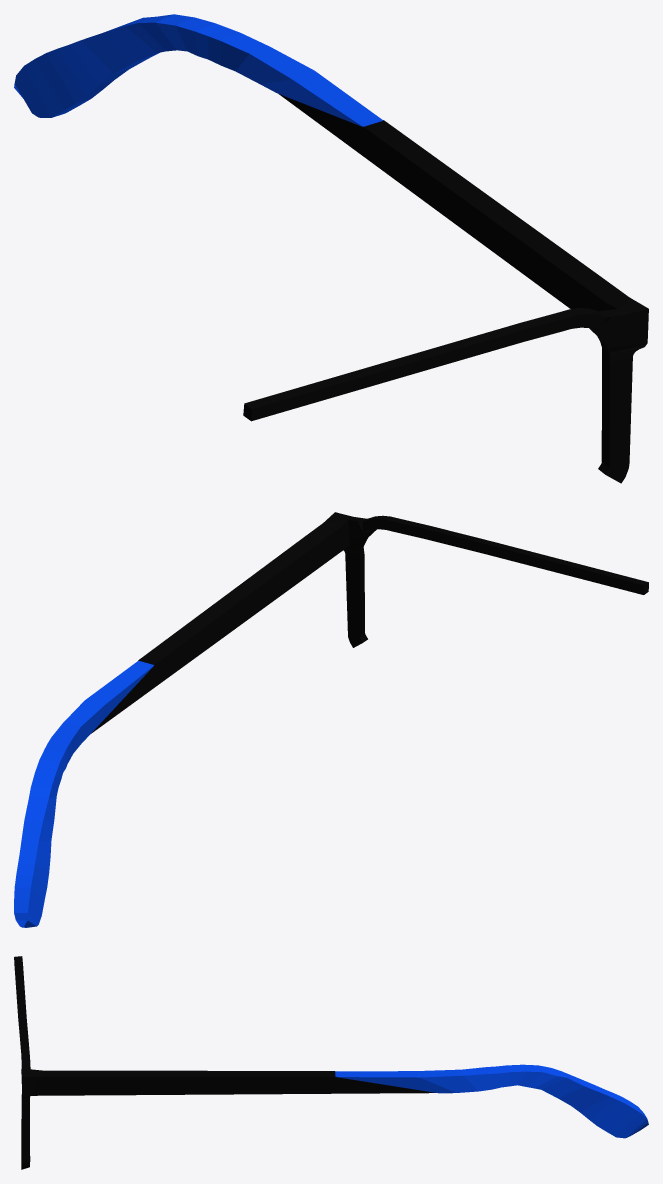
The model's file is glasses4.glb.
3 views of the same model, one above another, from view 1: azimuth 30°, elevation 25°; view 2: azimuth 150°, elevation 25°; view 3: azimuth 270°, elevation 25° (orthographic). The views are drawn at different scales.
Visible parts, largest first — view 1: frame, frameEnd; view 2: frame, frameEnd; view 3: frame, frameEnd.
Part boxes in pixels (x1,y1,x2,y2): frame: (243,94,648,483); frameEnd: (14,14,382,126); frame: (91,512,648,733); frameEnd: (14,660,153,927); frame: (14,956,435,1169); frameEnd: (335,1064,648,1138).
Bounding box in the file's own units: 0.6112 × 0.2609 × 1.38.
